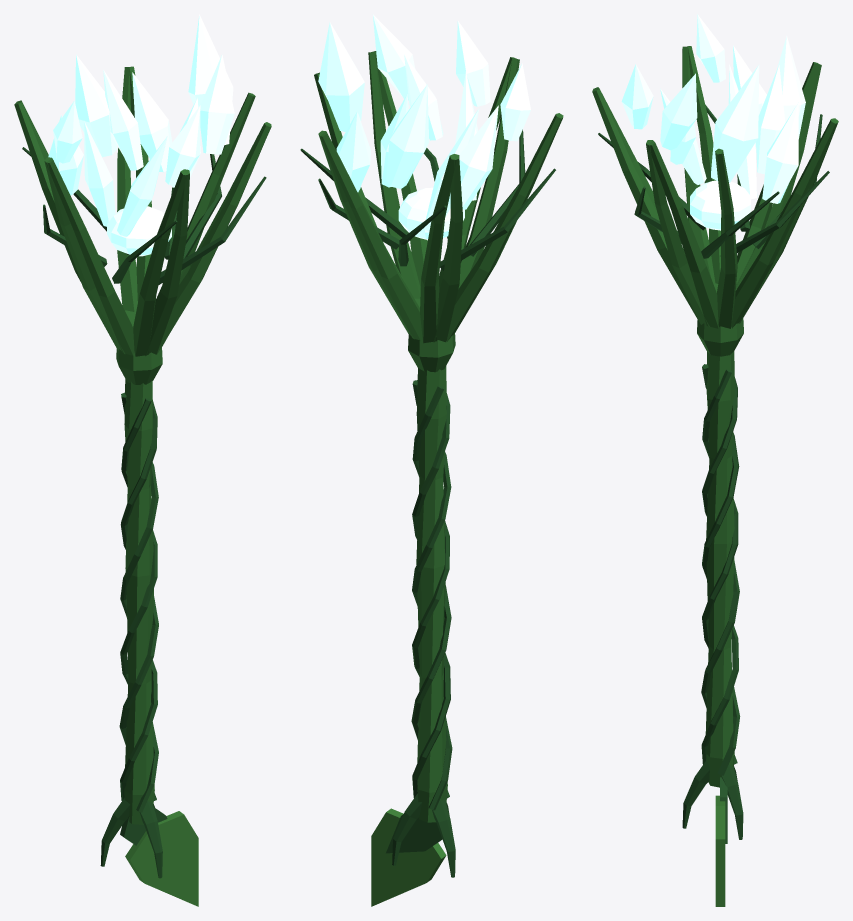
Rendered from staff_vineice.glb.
3 views of the same model, side by side, from view 1: azimuth 30°, elevation 25°; view 2: azimuth 150°, elevation 25°; view 3: azimuth 270°, elevation 25° (orthographic). The views are drawn at different scales.
Visible parts, largest first — view 1: Vi_Shaft, Vi_Leaf, Vi_Branch6, Vi_Branch9, Vi_Branch7, Vi_Branch8, Vi_Ice3, Vi_Ice2, Vi_Wrap2, Vi_Wrap1, Vi_Wrap0, Vi_Ice1 (+20 smaller); view 2: Vi_Shaft, Vi_Leaf, Vi_Branch2, Vi_Branch5, Vi_Ice0, Vi_Branch3, Vi_Ice3, Vi_Branch4, Vi_Branch10, Vi_Wrap1, Vi_Wrap0, Vi_Ice5 (+23 smaller); view 3: Vi_Shaft, Vi_Ice0, Vi_Branch1, Vi_Branch10, Vi_Branch0, Vi_Branch8, Vi_Branch9, Vi_Ice1, Vi_Wrap0, Vi_Wrap2, Vi_Chunk, Vi_Wrap1 (+21 smaller).
Boxes of the visible parts, bbox=[...] form: Vi_Shaft: bbox=[124, 379, 154, 824]; Vi_Leaf: bbox=[125, 811, 198, 906]; Vi_Branch6: bbox=[45, 158, 134, 355]; Vi_Branch9: bbox=[157, 123, 271, 354]; Vi_Branch7: bbox=[133, 169, 187, 356]; Vi_Branch8: bbox=[145, 169, 189, 355]; Vi_Ice3: bbox=[75, 54, 117, 157]; Vi_Ice2: bbox=[200, 54, 234, 154]; Vi_Wrap2: bbox=[120, 398, 158, 812]; Vi_Wrap1: bbox=[120, 392, 158, 800]; Vi_Wrap0: bbox=[119, 401, 158, 800]; Vi_Ice1: bbox=[132, 72, 172, 172]; Vi_Shaft: bbox=[416, 366, 447, 822]; Vi_Leaf: bbox=[371, 808, 446, 906]; Vi_Branch2: bbox=[319, 131, 422, 341]; Vi_Branch5: bbox=[446, 114, 563, 341]; Vi_Ice0: bbox=[318, 22, 364, 131]; Vi_Branch3: bbox=[420, 154, 456, 343]; Vi_Ice3: bbox=[386, 84, 429, 188]; Vi_Branch4: bbox=[433, 154, 462, 342]; Vi_Branch10: bbox=[368, 52, 420, 298]; Vi_Wrap1: bbox=[412, 386, 452, 810]; Vi_Wrap0: bbox=[412, 380, 451, 797]; Vi_Ice5: bbox=[448, 105, 498, 209]; Vi_Shaft: bbox=[705, 351, 734, 787]; Vi_Ice0: bbox=[711, 64, 759, 182]; Vi_Branch1: bbox=[731, 119, 837, 328]; Vi_Branch10: bbox=[647, 140, 718, 328]; Vi_Branch0: bbox=[715, 148, 737, 328]; Vi_Branch8: bbox=[592, 88, 699, 322]; Vi_Branch9: bbox=[646, 140, 709, 326]; Vi_Ice1: bbox=[762, 102, 798, 203]; Vi_Wrap0: bbox=[702, 369, 740, 775]; Vi_Wrap2: bbox=[701, 364, 739, 764]; Vi_Chunk: bbox=[690, 180, 750, 230]; Vi_Wrap1: bbox=[701, 378, 739, 764].
Size of the model in its own units: 0.7778 by 2.87 by 0.7516.
